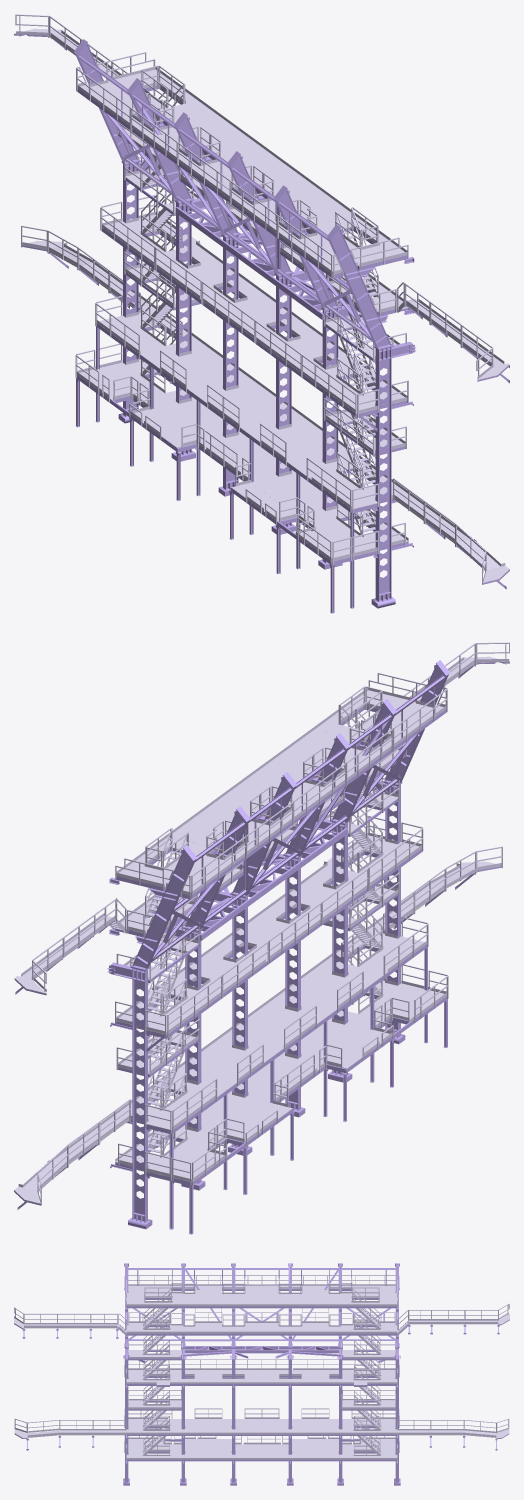
3 renders of one model, top to bottom at view 1: azimuth 30°, elevation 25°; view 2: azimuth 150°, elevation 25°; view 3: azimuth 270°, elevation 25°, orthographic. The views are drawn at different scales.
Visible parts, largest first — view 1: _000001E91FBB6050_IndexedFaceSet, _000001E91E83DB00_IndexedFaceSet, _000001E91EBDBDD0_IndexedFaceSet; view 2: _000001E91FBB6050_IndexedFaceSet, _000001E91E83DB00_IndexedFaceSet, _000001E91EBDBDD0_IndexedFaceSet; view 3: _000001E91EBDBDD0_IndexedFaceSet, _000001E91FBB6050_IndexedFaceSet, _000001E91E83DB00_IndexedFaceSet.
Boxes of the visible parts, <box> form: _000001E91FBB6050_IndexedFaceSet: <box>14,28,509,582</box>; _000001E91E83DB00_IndexedFaceSet: <box>14,33,509,613</box>; _000001E91EBDBDD0_IndexedFaceSet: <box>15,14,505,584</box>; _000001E91FBB6050_IndexedFaceSet: <box>14,656,509,1209</box>; _000001E91E83DB00_IndexedFaceSet: <box>14,660,509,1234</box>; _000001E91EBDBDD0_IndexedFaceSet: <box>18,642,509,1205</box>; _000001E91EBDBDD0_IndexedFaceSet: <box>14,1275,509,1460</box>; _000001E91FBB6050_IndexedFaceSet: <box>14,1285,509,1457</box>; _000001E91E83DB00_IndexedFaceSet: <box>14,1263,509,1485</box>.
Size of the model in its own units: 4.7 by 20.65 by 44.52.
